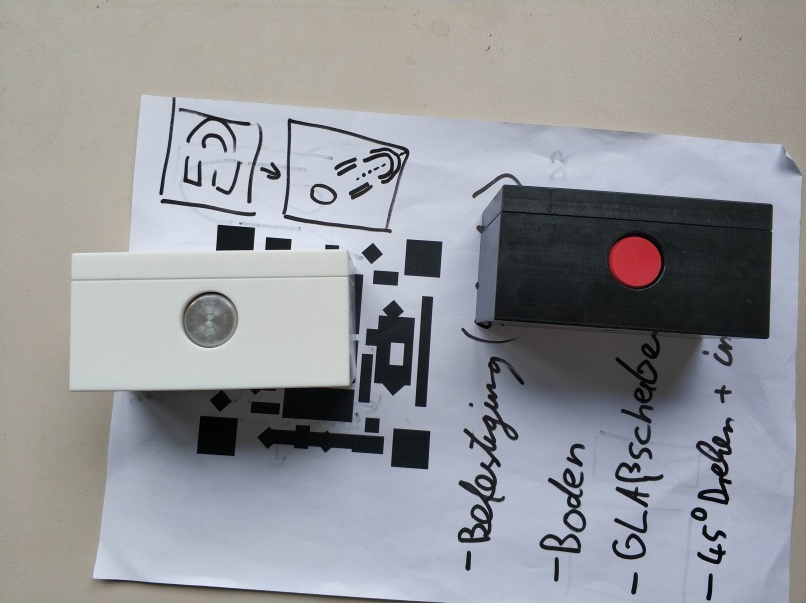black+black+red: (470, 183, 776, 343)
white+white+silver: (68, 247, 358, 394)
